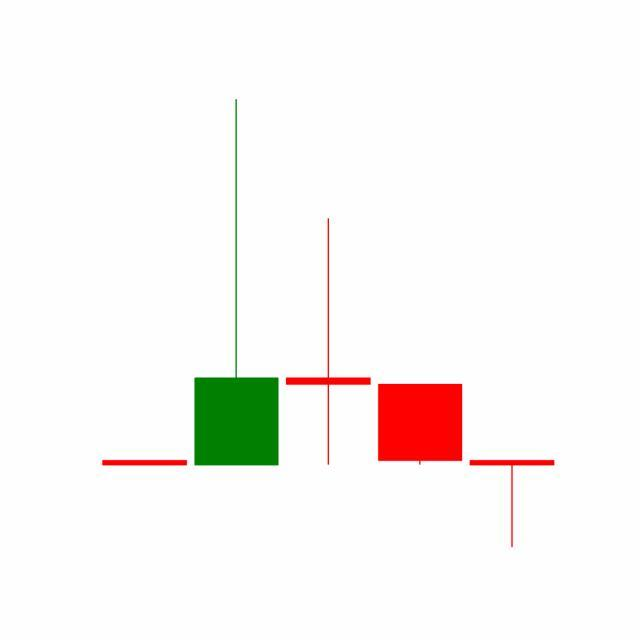Hammer: (466, 460, 559, 549)
